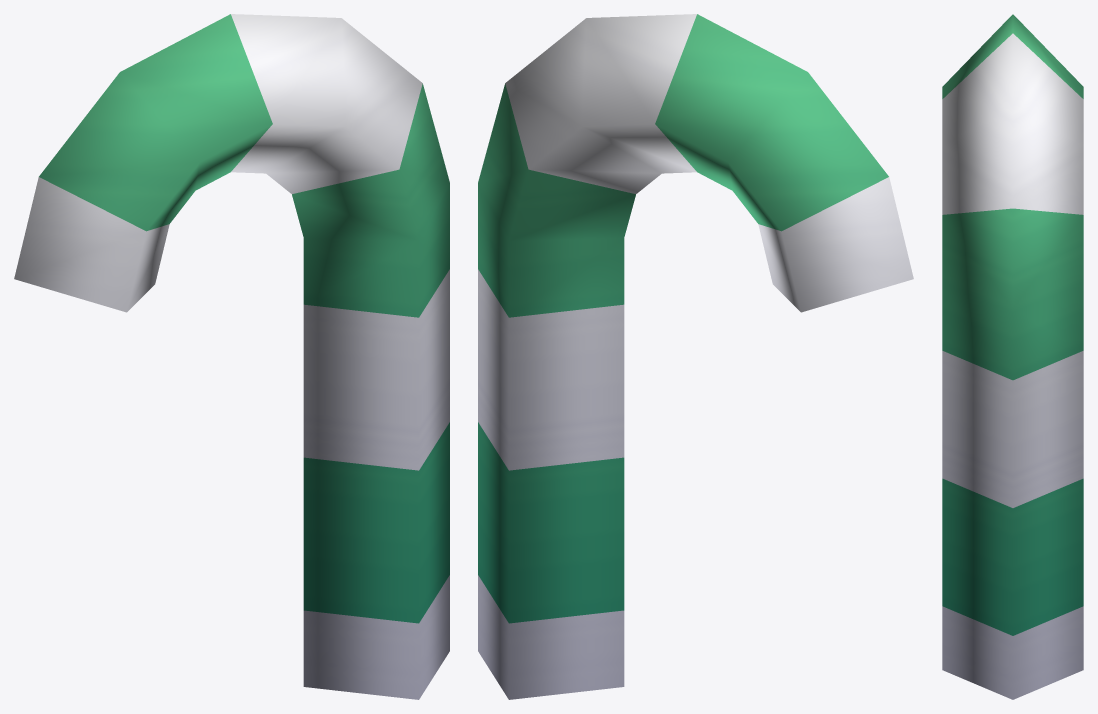
File: candy-cane-green.obj
The picture shows the model from 3 angles, left to right: view 1: azimuth 30°, elevation 25°; view 2: azimuth 150°, elevation 25°; view 3: azimuth 270°, elevation 25°; orthographic projection. The views are drawn at different scales.
Visible parts, largest first — view 1: candy-cane-green; view 2: candy-cane-green; view 3: candy-cane-green.
Boxes of the visible parts, x1,y1,x2,y2 form: candy-cane-green: (14,14,449,699); candy-cane-green: (478,14,913,699); candy-cane-green: (942,14,1083,699).
Size of the model in its own units: 0.2983 by 0.4518 by 0.1.
1 material, 1 textured.
